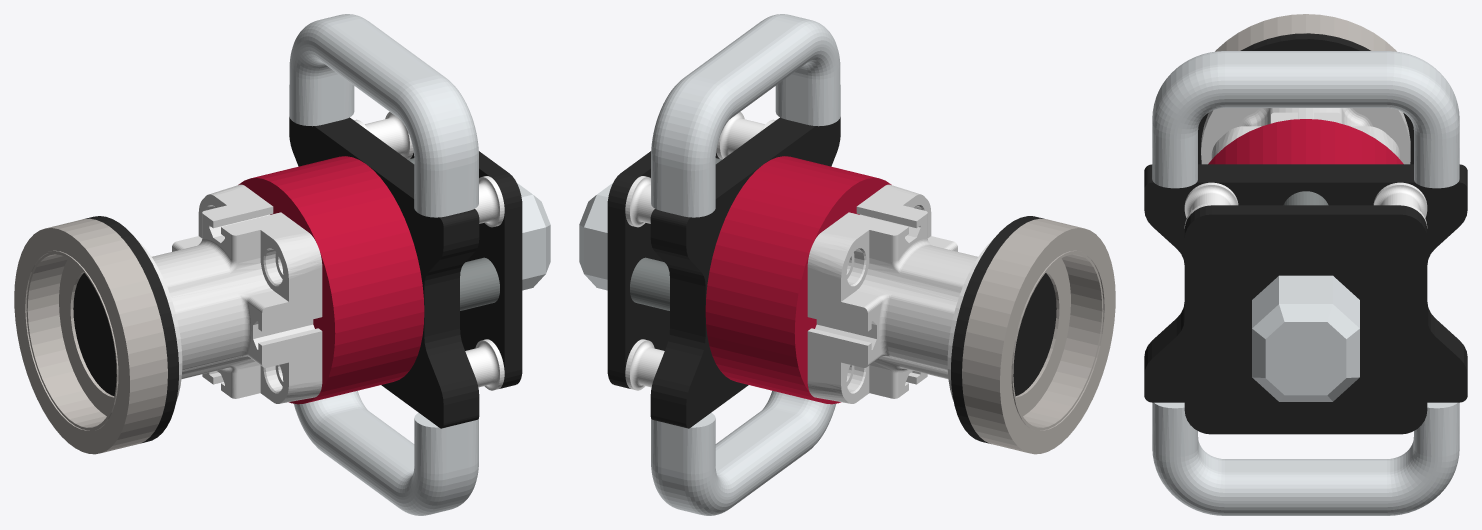
The model's file is RARM_LINK5_mesh.dae.
3 views of the same model, side by side, from view 1: azimuth 30°, elevation 25°; view 2: azimuth 150°, elevation 25°; view 3: azimuth 270°, elevation 25° (orthographic). The views are drawn at different scales.
Visible parts, largest first — view 1: RARM_LINK5 (×13); view 2: RARM_LINK5 (×13); view 3: RARM_LINK5 (×12).
Part boxes in pixels (bbox=[...]): RARM_LINK5 (×13): bbox=[14, 14, 550, 515]; RARM_LINK5 (×13): bbox=[579, 14, 1115, 515]; RARM_LINK5 (×12): bbox=[1144, 14, 1467, 515].
Bounding box in the file's own units: 0.2065 × 0.184 × 0.12.
